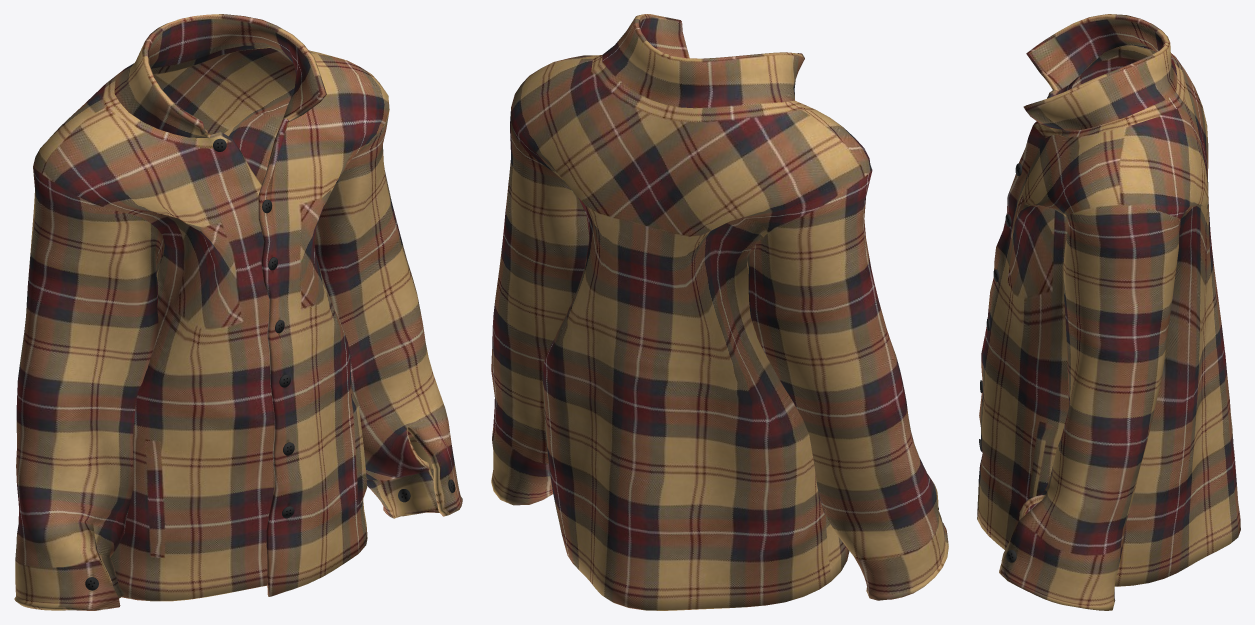
The model's file is plaid.glb.
3 views of the same model, side by side, from view 1: azimuth 30°, elevation 25°; view 2: azimuth 150°, elevation 25°; view 3: azimuth 270°, elevation 25° (orthographic). The views are drawn at different scales.
Parts seen in each view (by area): view 1: plaid, plaidbuttons; view 2: plaid; view 3: plaid, plaidbuttons.
Boxes of the visible parts, x1=… form: plaid: x1=14, y1=14, x2=462, y2=610; plaidbuttons: x1=85, y1=138, x2=455, y2=590; plaid: x1=491, y1=14, x2=948, y2=610; plaid: x1=977, y1=14, x2=1240, y2=610; plaidbuttons: x1=979, y1=97, x2=1047, y2=562.
Size of the model in its own units: 0.6723 by 0.7804 by 0.377.
2 materials, 2 textured.
